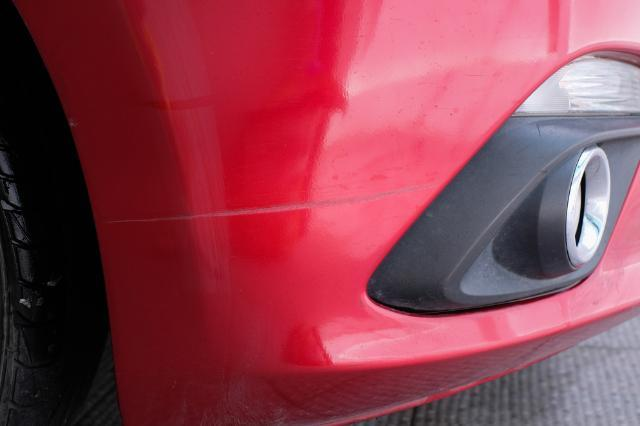Bumper: (101, 155, 442, 287)
